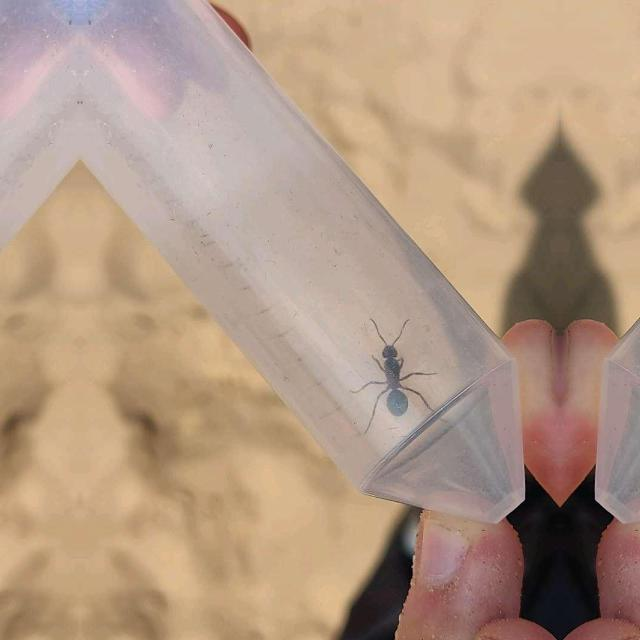Formica: (358, 311, 430, 429)
